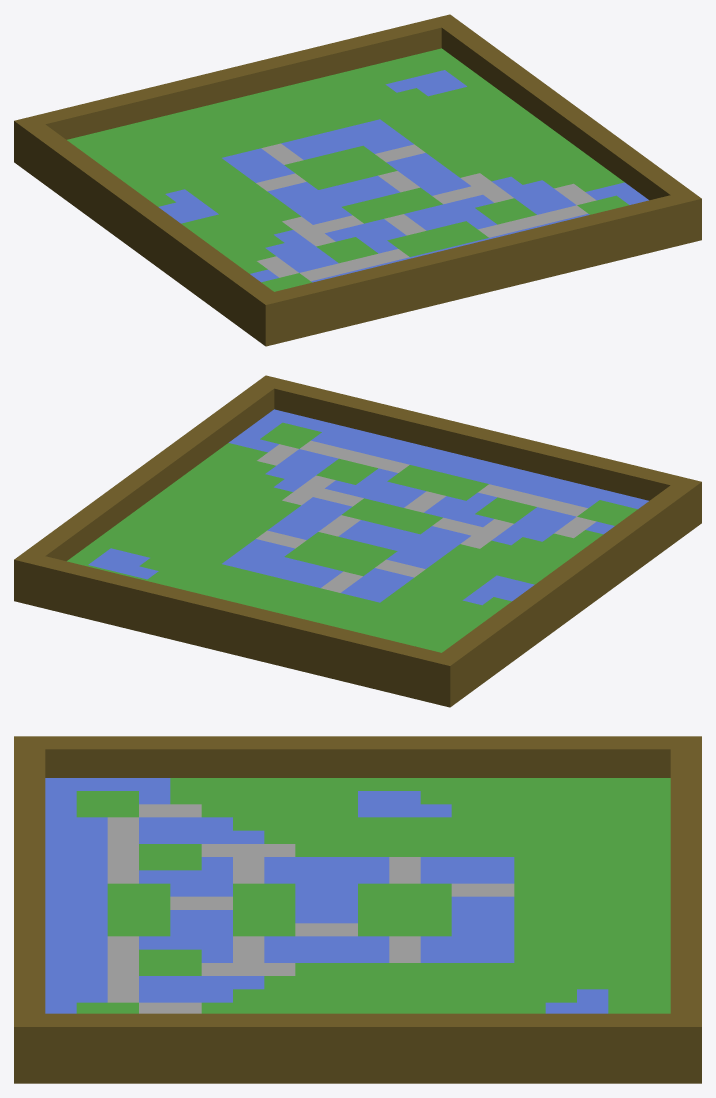
The model's file is world.fbx.
The picture shows the model from 3 angles, top to bottom: view 1: azimuth 30°, elevation 25°; view 2: azimuth 150°, elevation 25°; view 3: azimuth 270°, elevation 25°; orthographic projection. The views are drawn at different scales.
Visible parts, largest first — view 1: pCube547, pCube200, pCube544, pCube493, pCube503, pCube528, pCube535, pCube489, pCube496, pCube536, pCube485, pCube495 (+30 smaller); view 2: pCube486, pCube483, pCube489, pCube498, pCube506, pCube530, pCube540, pCube497, pCube537, pCube544, pCube499, pCube538 (+30 smaller); view 3: pCube507, pCube512, pCube515, pCube517, pCube519, pCube526, pCube504, pCube508, pCube509, pCube510, pCube511, pCube513 (+52 smaller).
Part boxes in pixels (x1,y1,x2,y2): pCube547: [254, 292, 285, 325]; pCube200: [254, 318, 285, 346]; pCube544: [373, 263, 404, 296]; pCube493: [93, 96, 124, 130]; pCube503: [351, 33, 382, 67]; pCube528: [631, 200, 662, 233]; pCube535: [492, 234, 523, 267]; pCube489: [133, 87, 164, 120]; pCube496: [232, 63, 263, 96]; pCube536: [611, 205, 642, 238]; pCube485: [212, 67, 243, 101]; pCube495: [113, 92, 144, 125]; pCube486: [430, 653, 461, 686]; pCube483: [430, 679, 461, 707]; pCube489: [311, 624, 342, 657]; pCube498: [192, 595, 223, 628]; pCube506: [53, 561, 84, 594]; pCube530: [333, 394, 364, 428]; pCube540: [591, 457, 622, 491]; pCube497: [73, 566, 104, 599]; pCube537: [452, 424, 483, 457]; pCube544: [551, 448, 582, 481]; pCube499: [172, 590, 203, 623]; pCube538: [571, 453, 602, 486]; pCube507: [639, 1013, 670, 1055]; pCube512: [514, 1013, 545, 1055]; pCube515: [389, 1013, 420, 1055]; pCube517: [170, 1013, 201, 1055]; pCube519: [45, 1013, 76, 1055]; pCube526: [295, 1013, 326, 1055]; pCube504: [670, 1013, 701, 1055]; pCube508: [608, 1013, 639, 1055]; pCube509: [577, 1013, 608, 1055]; pCube510: [545, 1013, 576, 1055]; pCube511: [483, 1013, 514, 1055]; pCube513: [451, 1013, 482, 1055].
Size of the model in its own units: 22 by 2 by 22.
